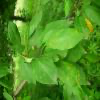Apple Scab Leaf: (45, 28, 87, 51), (55, 60, 86, 89), (32, 56, 60, 86)
